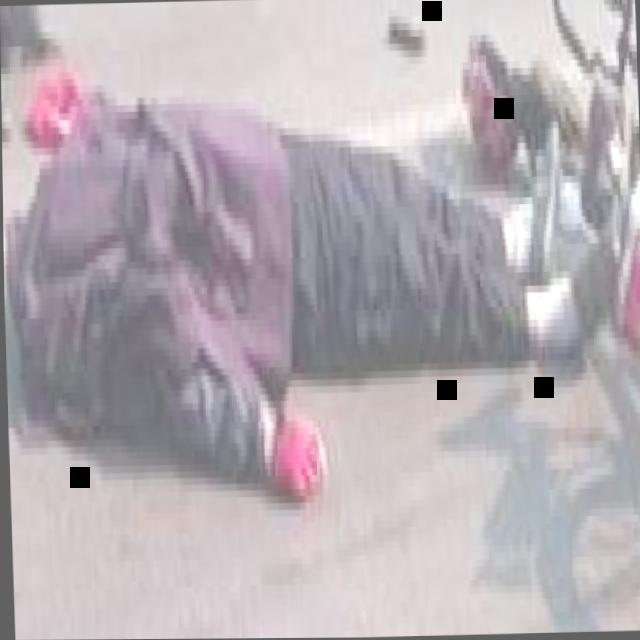Fall-Detected: (0, 31, 640, 530)
